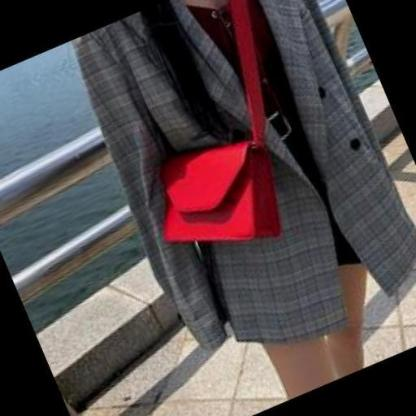bag: (153, 132, 284, 258)
